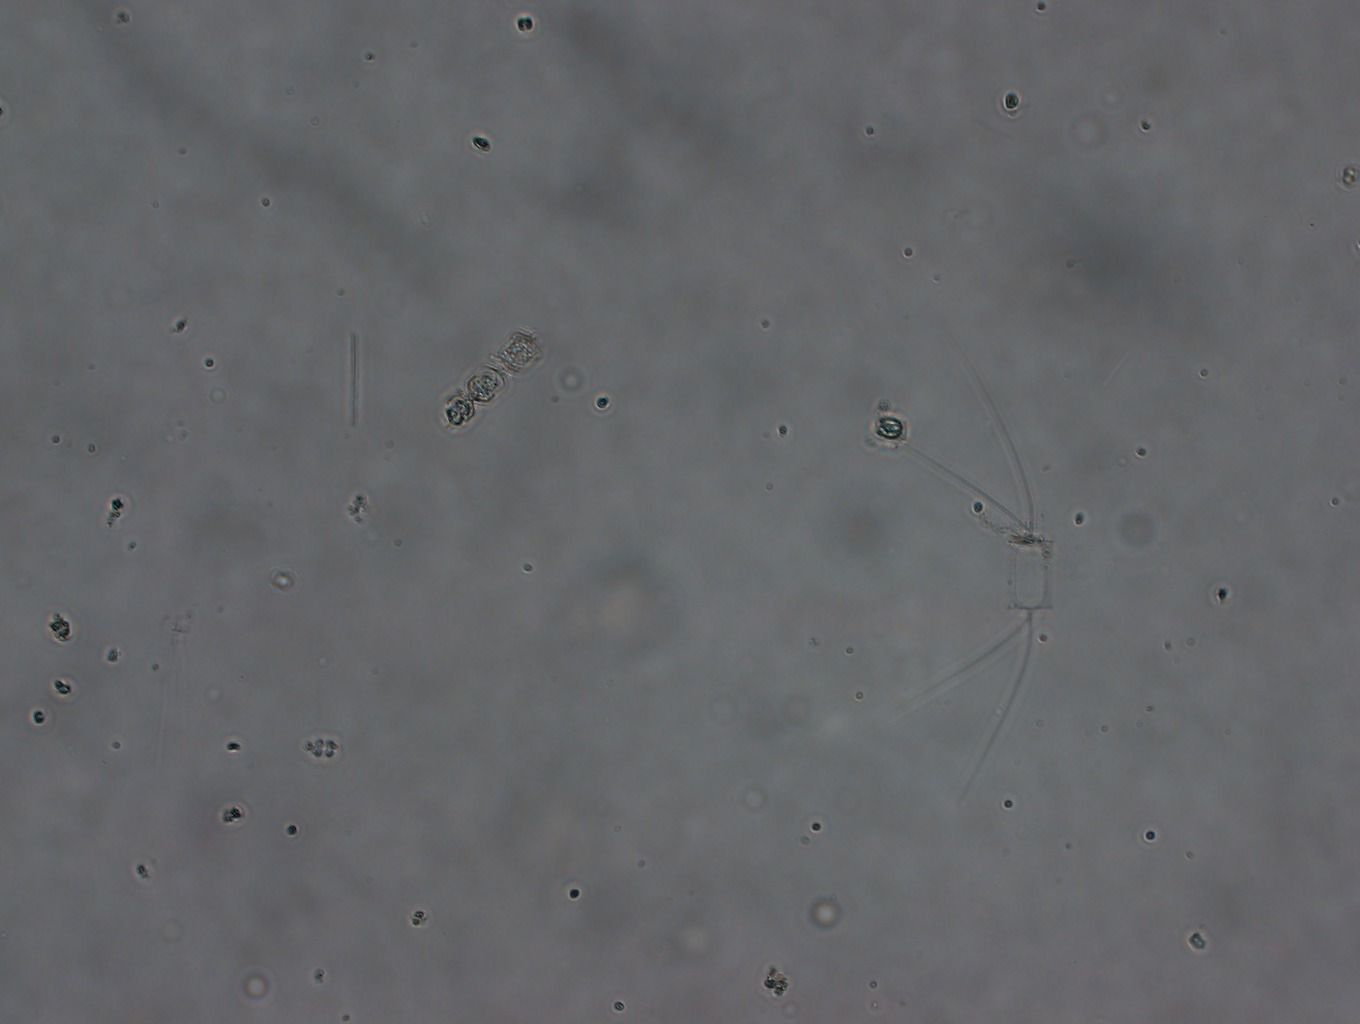chaetoceros: (858, 344, 1072, 805)
